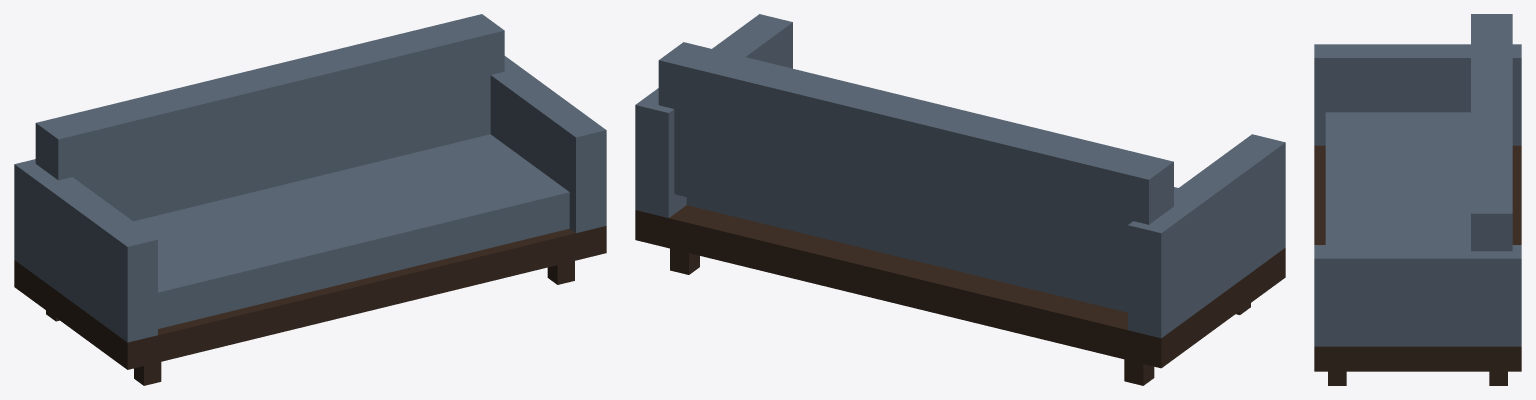
File: couch.glb
The picture shows the model from 3 angles, left to right: view 1: azimuth 30°, elevation 25°; view 2: azimuth 150°, elevation 25°; view 3: azimuth 270°, elevation 25°; orthographic projection. The views are drawn at different scales.
Parts seen in each view (by area): view 1: Couch; view 2: Couch; view 3: Couch.
Boxes of the visible parts, box(x1,y1,x2,y2) form: Couch: box(14, 14, 606, 385); Couch: box(635, 14, 1285, 385); Couch: box(1314, 14, 1521, 385).
Size of the model in its own units: 2.2 by 0.84 by 0.9.
